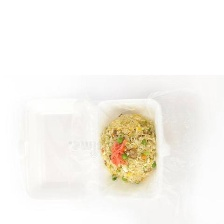foam_box: (19, 89, 175, 209)
